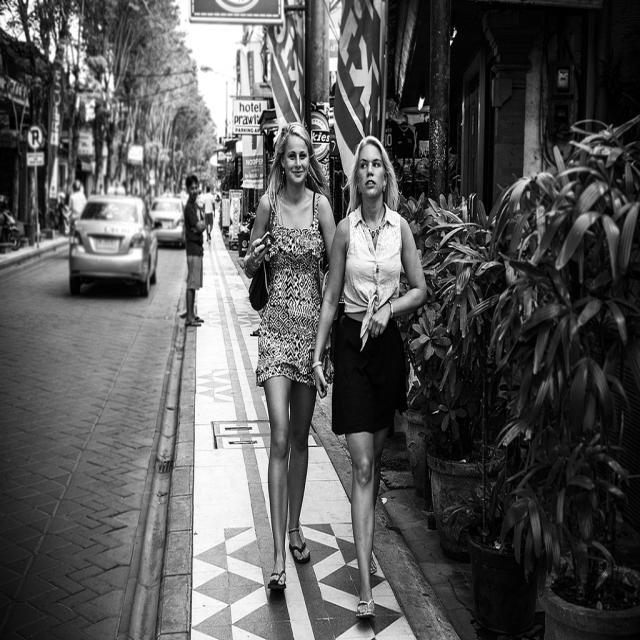car: (69, 186, 160, 295)
